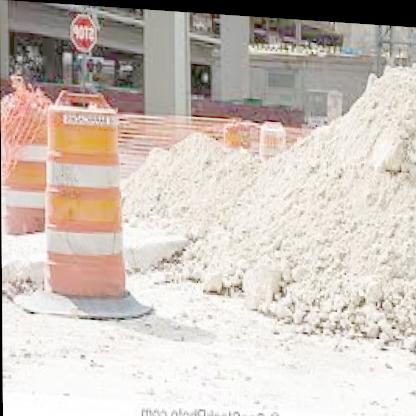obstacle: (39, 88, 123, 307)
